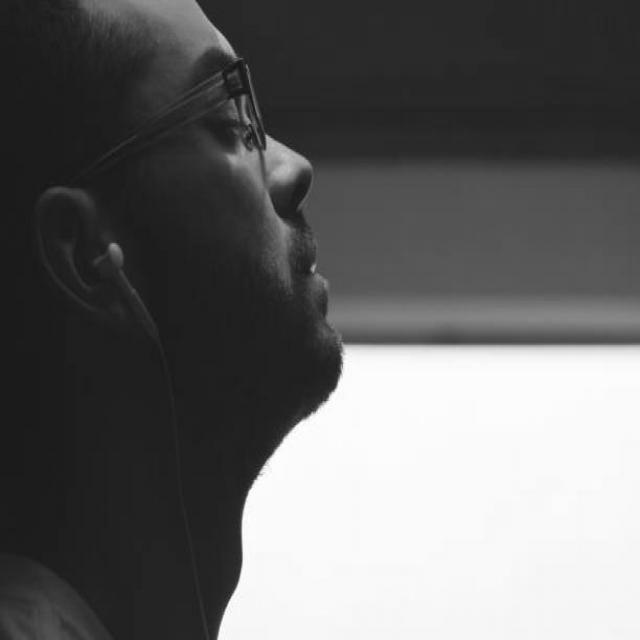real: (0, 0, 345, 429), (183, 36, 278, 182)
